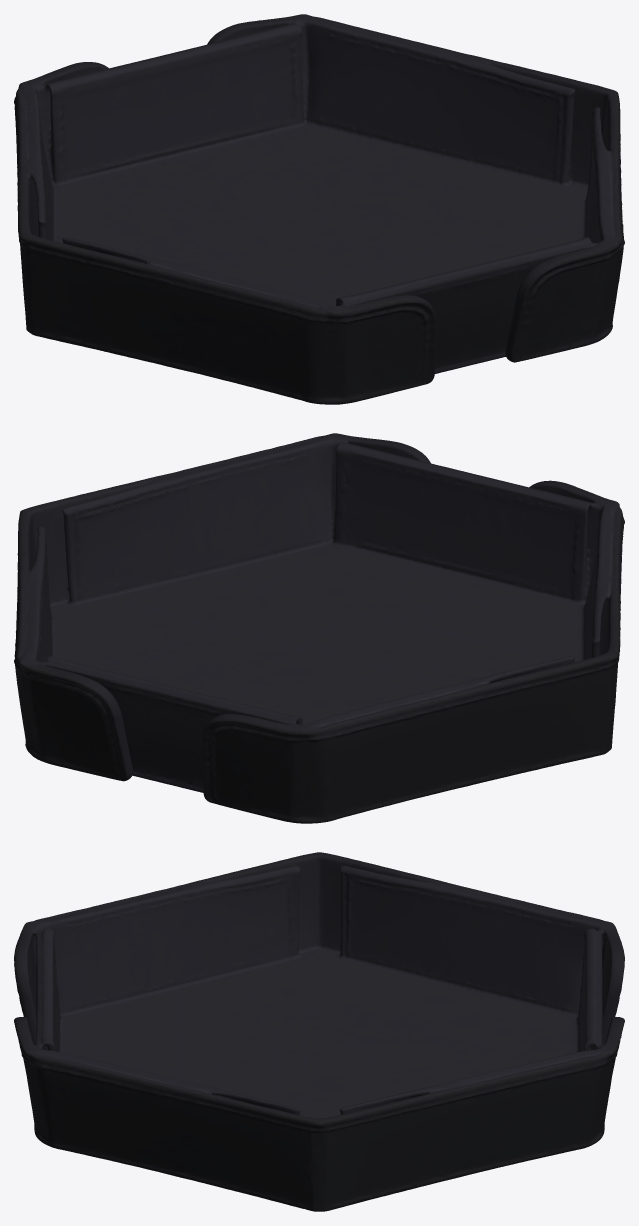
3 renders of one model, top to bottom at view 1: azimuth 30°, elevation 25°; view 2: azimuth 150°, elevation 25°; view 3: azimuth 270°, elevation 25°, orthographic. The views are drawn at different scales.
Parts seen in each view (by area): view 1: Meshy_AI_Black_Hexagonal_Desk__0916115751_texture; view 2: Meshy_AI_Black_Hexagonal_Desk__0916115751_texture; view 3: Meshy_AI_Black_Hexagonal_Desk__0916115751_texture.
Boxes of the visible parts, x1,y1,x2,y2 form: Meshy_AI_Black_Hexagonal_Desk__0916115751_texture: [14, 14, 624, 404]; Meshy_AI_Black_Hexagonal_Desk__0916115751_texture: [14, 433, 624, 823]; Meshy_AI_Black_Hexagonal_Desk__0916115751_texture: [14, 852, 624, 1211].
Bounding box in the file's own units: 1.9 × 0.3105 × 1.8.
